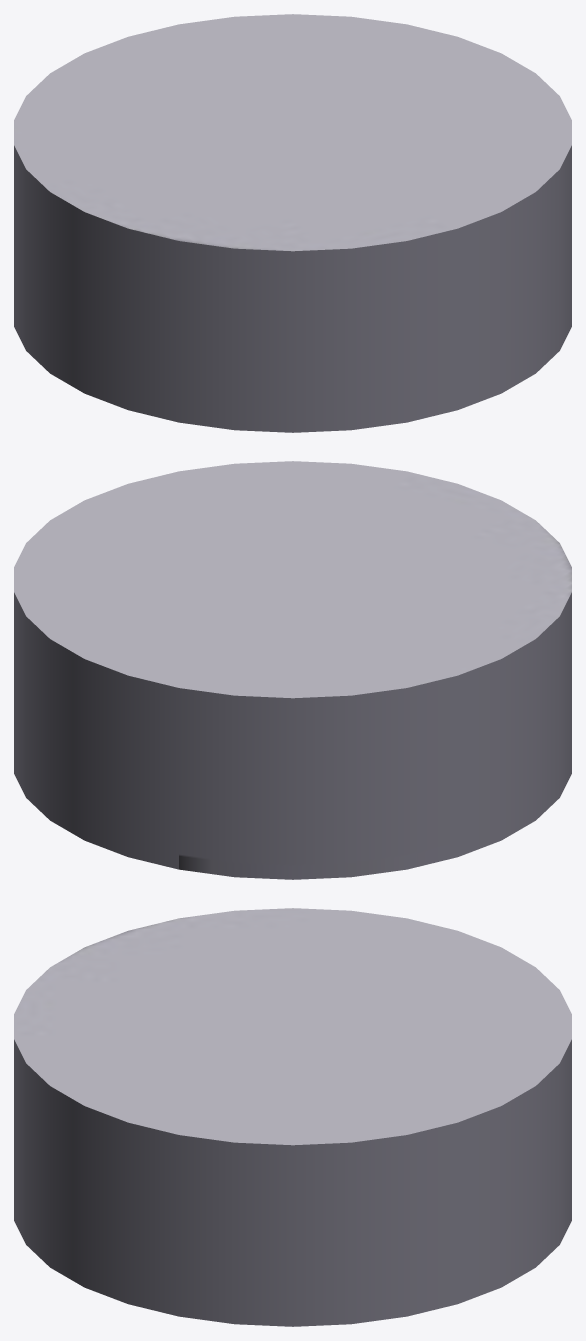
Rendered from plate02.FBX.
3 renders of one model, top to bottom at view 1: azimuth 30°, elevation 25°; view 2: azimuth 150°, elevation 25°; view 3: azimuth 270°, elevation 25°, orthographic.
Parts seen in each view (by area): view 1: Cylinder003; view 2: Cylinder003; view 3: Cylinder003.
Boxes of the visible parts, x1,y1,x2,y2 form: Cylinder003: [14, 14, 571, 432]; Cylinder003: [14, 461, 571, 879]; Cylinder003: [14, 908, 571, 1326].
Bounding box in the file's own units: 27.56 × 9.84 × 27.41.
Materials: 1 (1 with a texture image).
